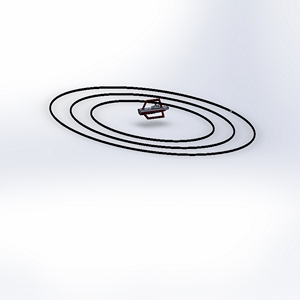circle: (43, 80, 267, 171)
submarine: (132, 96, 177, 129)
